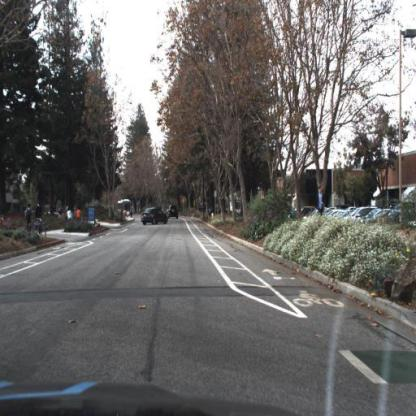car: (141, 209, 170, 225), (168, 203, 182, 224)
pedestrian: (36, 201, 43, 233), (25, 203, 33, 230), (316, 186, 325, 209), (77, 208, 82, 225), (68, 208, 73, 225)
